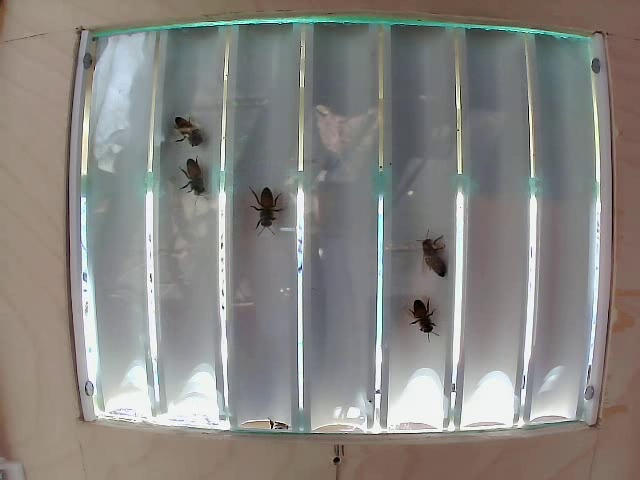bee: (241, 183, 291, 254), (388, 278, 443, 338), (177, 146, 215, 205), (173, 105, 217, 152), (419, 222, 451, 269)
